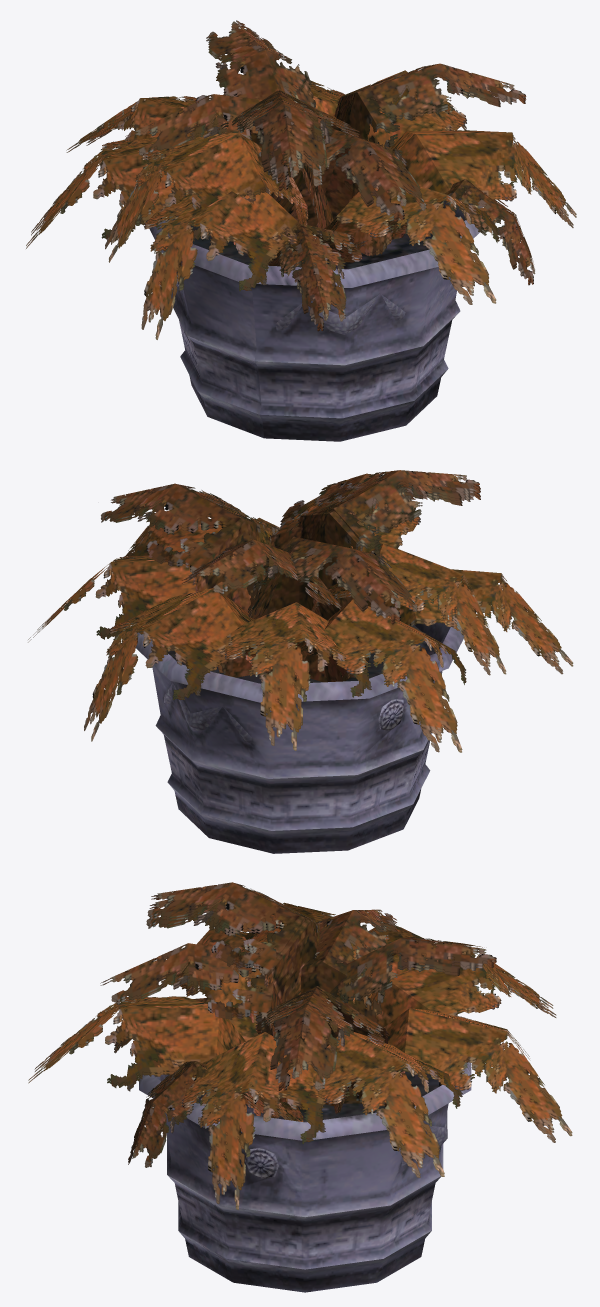
File: pot_plant_small03_red.dae
3 views of the same model, one above another, from view 1: azimuth 30°, elevation 25°; view 2: azimuth 150°, elevation 25°; view 3: azimuth 270°, elevation 25° (orthographic). The views are drawn at different scales.
Parts seen in each view (by area): view 1: Scene_Root; view 2: Scene_Root; view 3: Scene_Root.
Boxes of the visible parts, x1=… form: Scene_Root: x1=26, y1=20, x2=576, y2=441; Scene_Root: x1=28, y1=470, x2=573, y2=853; Scene_Root: x1=28, y1=882, x2=572, y2=1292.
Size of the model in its own units: 0.8846 by 0.9235 by 0.5815.
